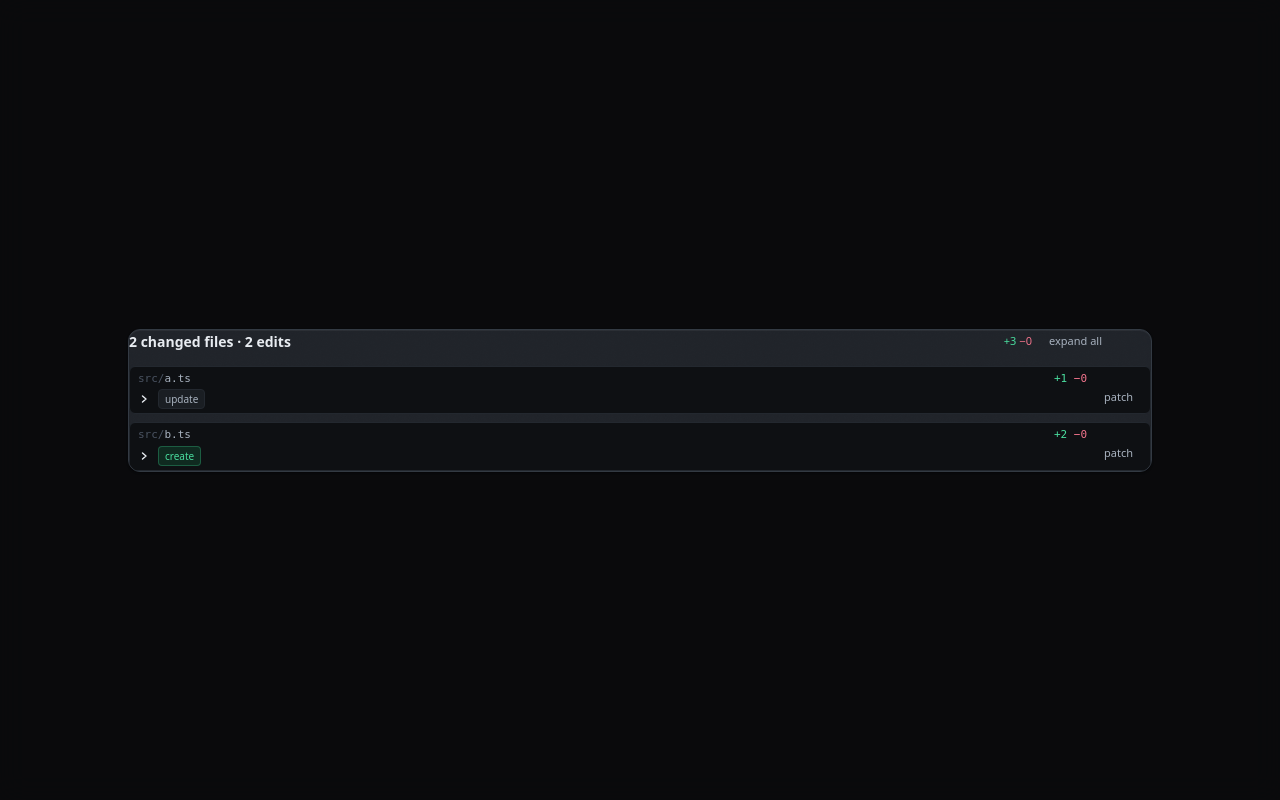
ChangesViewer › opens every card on expand all and closes them on collapse all
The image size is (1280, 800).
Click the button "expand all" at (1076, 342), box top-left (1040, 330), bottom-right (1111, 354)
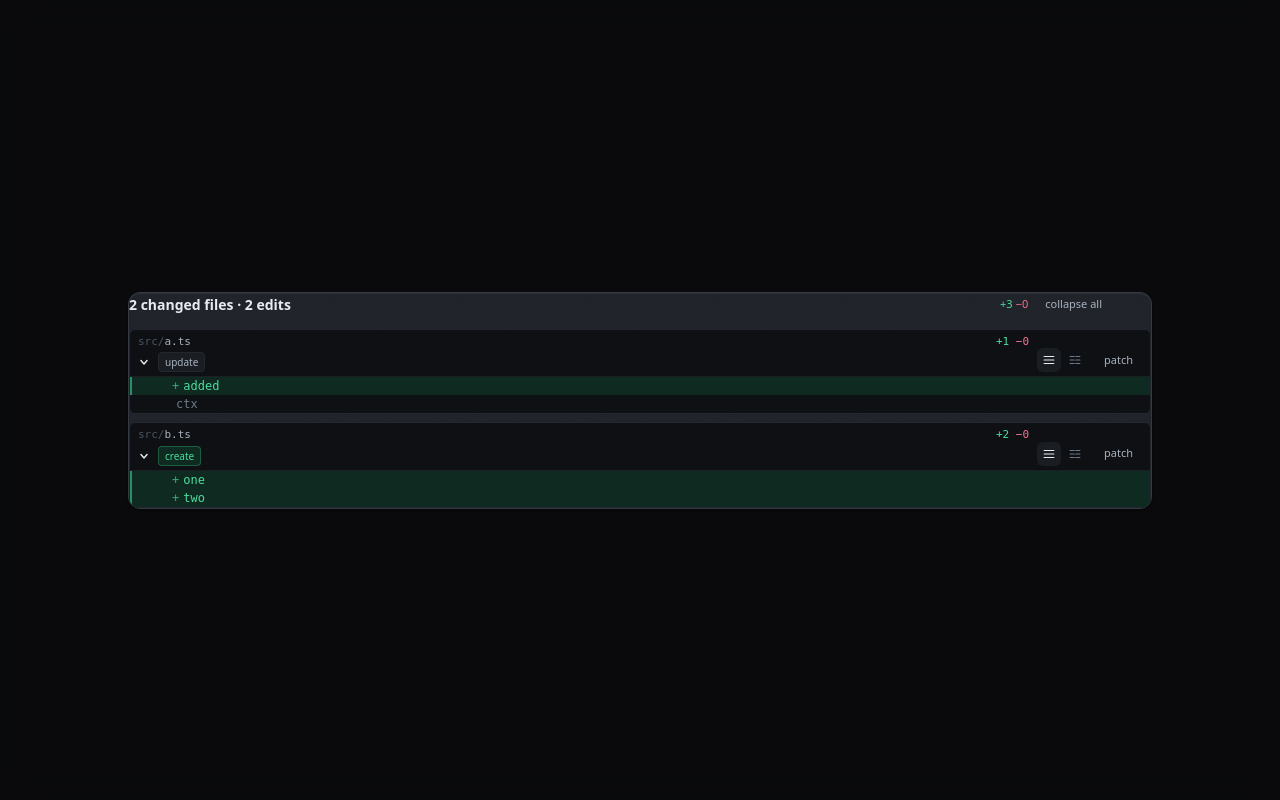
Check: the button "collapse all" is shown
Click the button "collapse all" at (1074, 304), box top-left (1036, 292), bottom-right (1111, 316)
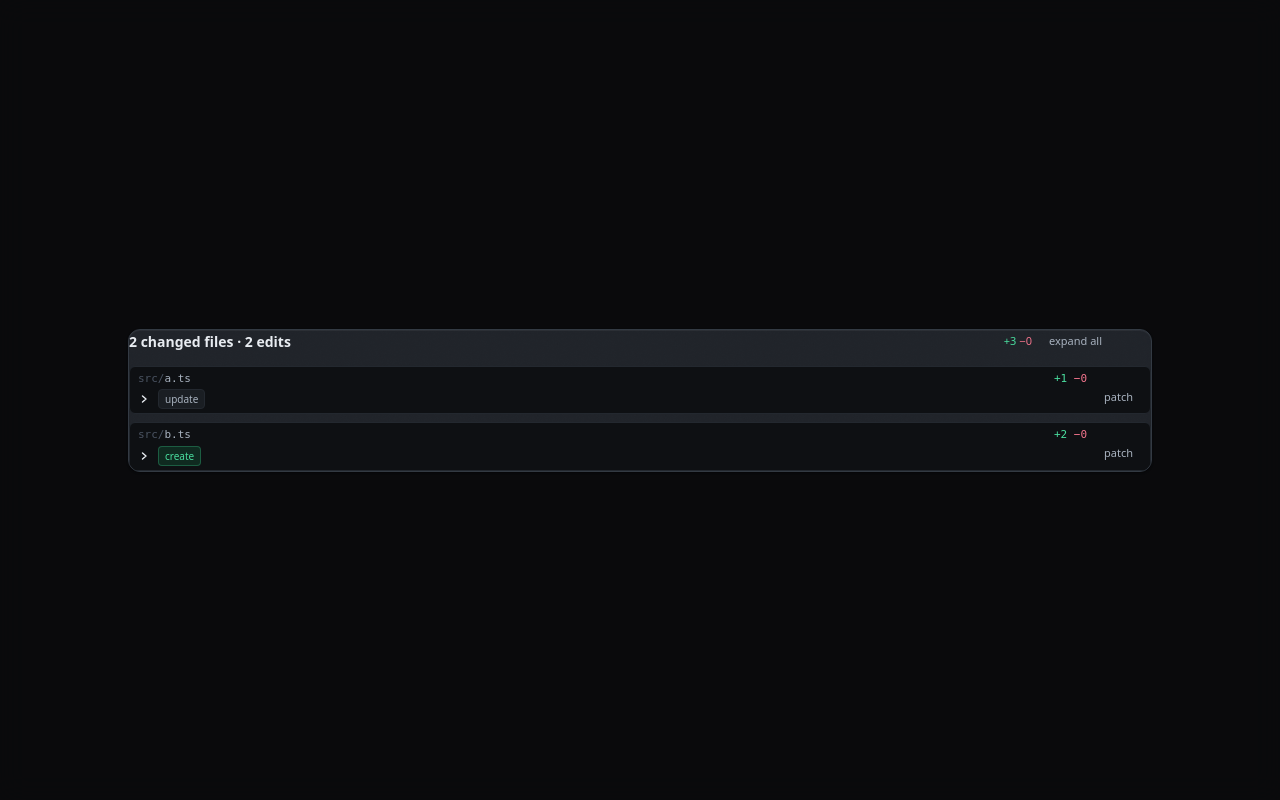
Check: the button "expand all" is shown, box top-left (1040, 330), bottom-right (1111, 354)
